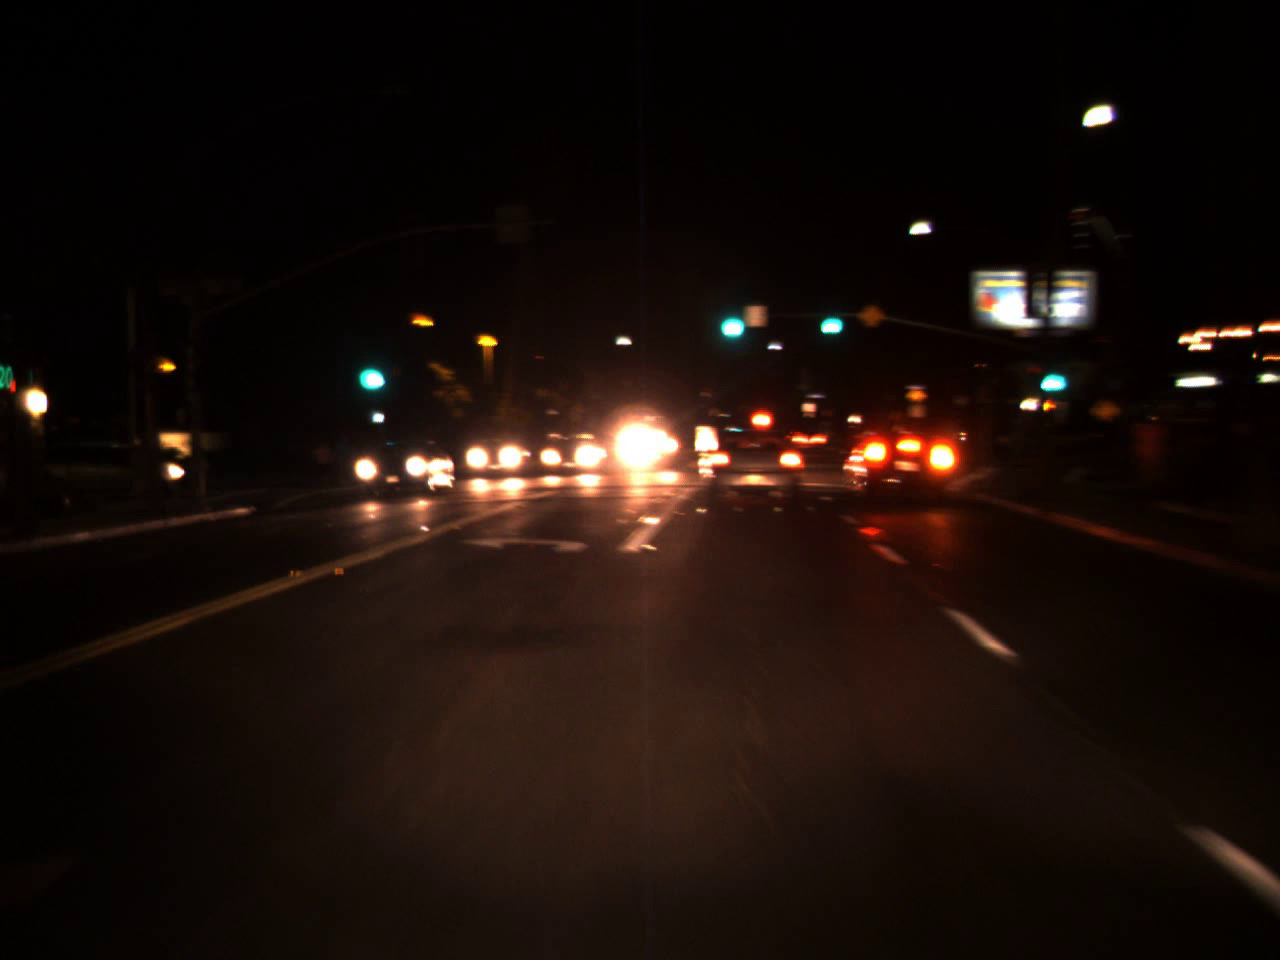go: (350, 341, 389, 398), (1029, 351, 1072, 399), (711, 298, 750, 340), (812, 299, 848, 338)
